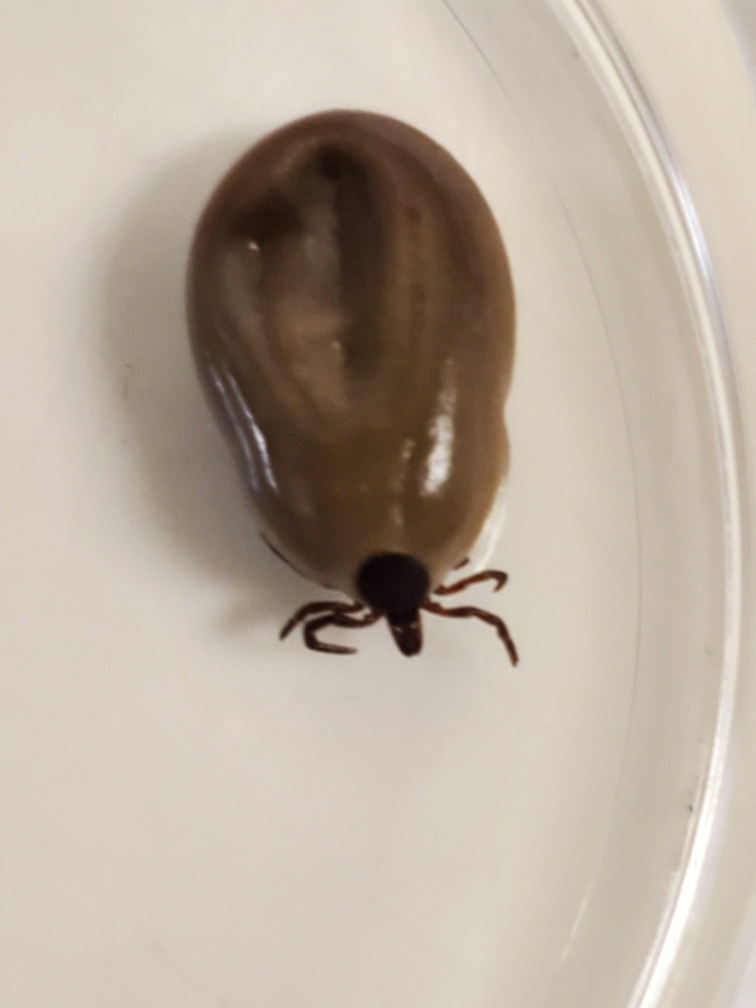unlabelled_tick: (146, 102, 579, 688)
